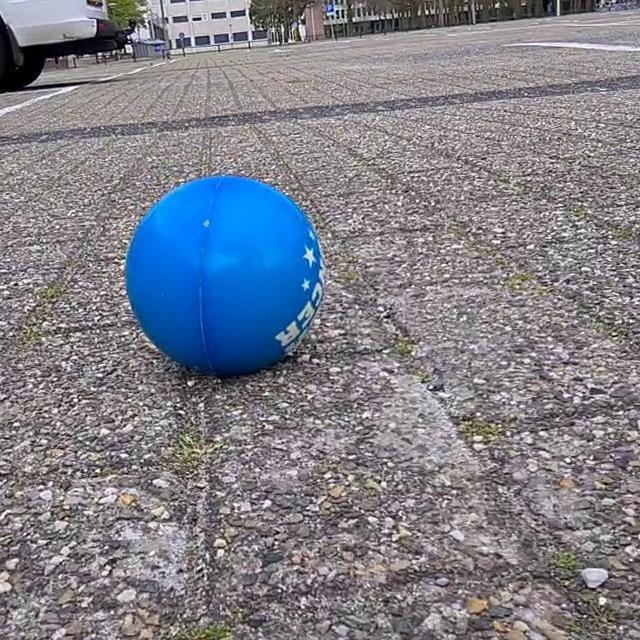ball: (125, 170, 326, 376)
